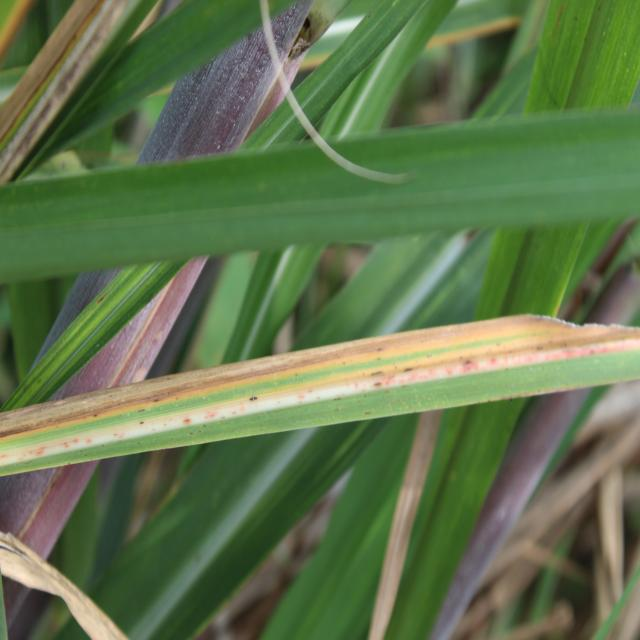Sugarcane: (0, 103, 636, 280), (2, 314, 637, 486), (221, 3, 480, 373), (355, 271, 538, 640), (386, 3, 563, 340), (80, 256, 241, 594), (242, 450, 414, 640), (0, 3, 182, 180), (4, 258, 180, 416), (309, 0, 476, 136), (304, 232, 466, 360), (104, 0, 275, 120), (465, 0, 554, 123), (235, 244, 322, 368), (182, 252, 264, 378), (55, 94, 168, 162), (417, 1, 533, 54)
